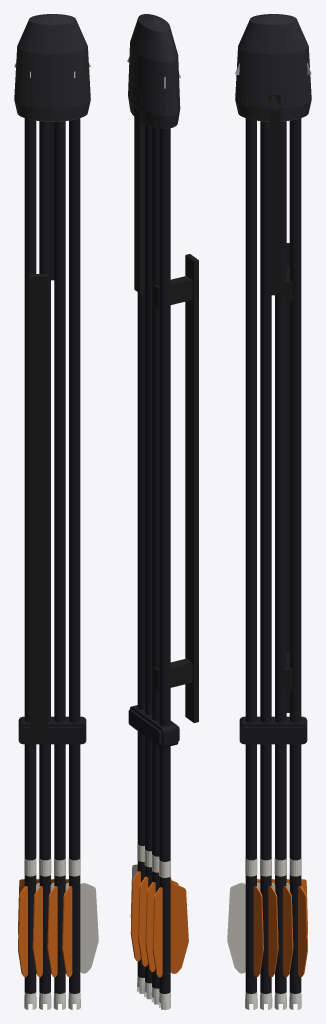
File: aljava_arco.glb
3 renders of one model, left to right at view 1: azimuth 90°, elevation 25°; view 2: azimuth 210°, elevation 25°; view 3: azimuth 270°, elevation 25°, orthographic.
Visible parts, largest first — view 1: aljava_arco_fibra_preta, aljava_arco_aluminio_preto, aljava_arco_polimero, aljava_arco_pena_laranja, aljava_arco_pena_branca, aljava_arco_borracha, aljava_arco_plastico_branco; view 2: aljava_arco_fibra_preta, aljava_arco_aluminio_preto, aljava_arco_polimero, aljava_arco_pena_laranja, aljava_arco_borracha, aljava_arco_pena_branca, aljava_arco_plastico_branco; view 3: aljava_arco_fibra_preta, aljava_arco_polimero, aljava_arco_aluminio_preto, aljava_arco_pena_laranja, aljava_arco_pena_branca, aljava_arco_borracha, aljava_arco_plastico_branco.
Boxes of the visible parts, x1,y1,x2,y2 form: aljava_arco_fibra_preta: [24, 118, 80, 993]; aljava_arco_aluminio_preto: [30, 121, 54, 743]; aljava_arco_polimero: [14, 14, 90, 120]; aljava_arco_pena_laranja: [18, 879, 72, 977]; aljava_arco_pena_branca: [24, 857, 98, 973]; aljava_arco_borracha: [18, 716, 86, 744]; aljava_arco_plastico_branco: [24, 992, 80, 1009]; aljava_arco_fibra_preta: [137, 124, 170, 993]; aljava_arco_aluminio_preto: [134, 92, 198, 722]; aljava_arco_polimero: [128, 14, 180, 128]; aljava_arco_pena_laranja: [130, 871, 188, 977]; aljava_arco_borracha: [128, 705, 179, 748]; aljava_arco_pena_branca: [130, 843, 170, 918]; aljava_arco_plastico_branco: [137, 976, 170, 1009]; aljava_arco_fibra_preta: [245, 118, 301, 993]; aljava_arco_polimero: [235, 14, 311, 120]; aljava_arco_aluminio_preto: [269, 94, 292, 712]; aljava_arco_pena_laranja: [253, 879, 307, 977]; aljava_arco_pena_branca: [227, 857, 301, 973]; aljava_arco_borracha: [239, 716, 307, 744]; aljava_arco_plastico_branco: [245, 992, 301, 1009].
Size of the model in its own units: 0.0412 by 0.744 by 0.0574.
